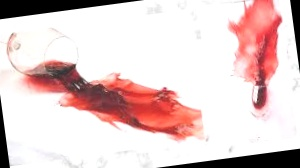wine: (102, 77, 203, 154), (32, 60, 141, 121), (223, 0, 289, 88)
